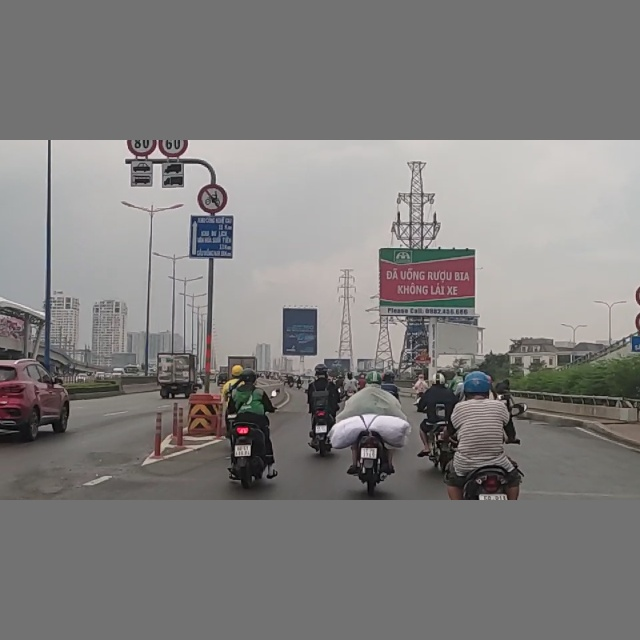P.104: (199, 184, 227, 216)
